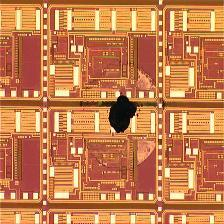PARTICLE: (77, 64, 166, 172)
